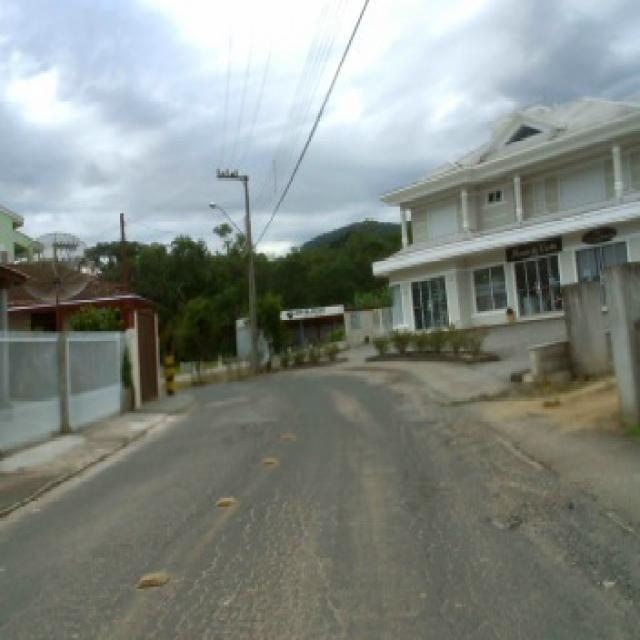Poth-hole: (172, 484, 348, 636), (572, 551, 626, 596), (422, 413, 460, 447), (480, 508, 528, 534), (131, 566, 169, 586), (212, 494, 236, 504), (258, 453, 278, 462), (278, 429, 293, 438)
